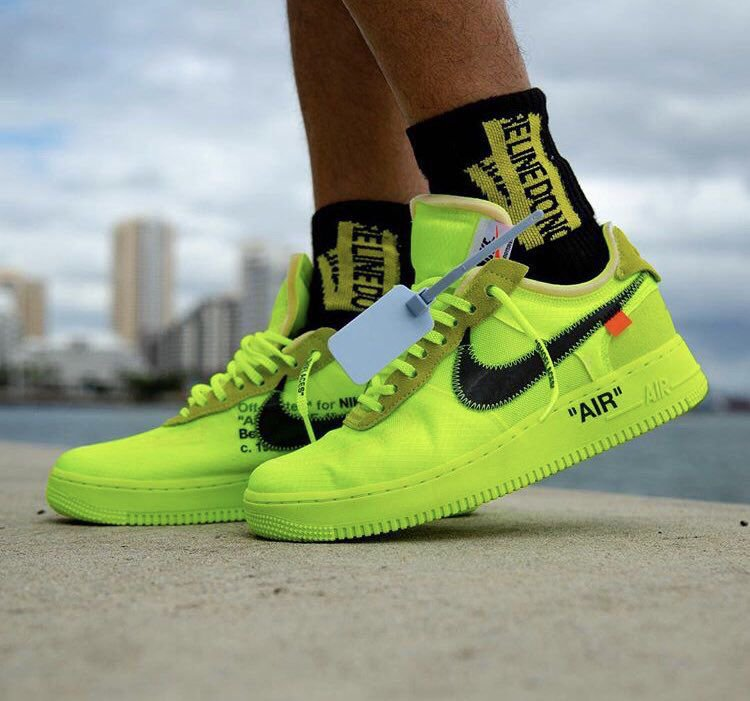Air Force One Volt: (229, 173, 714, 550), (40, 248, 478, 534)
